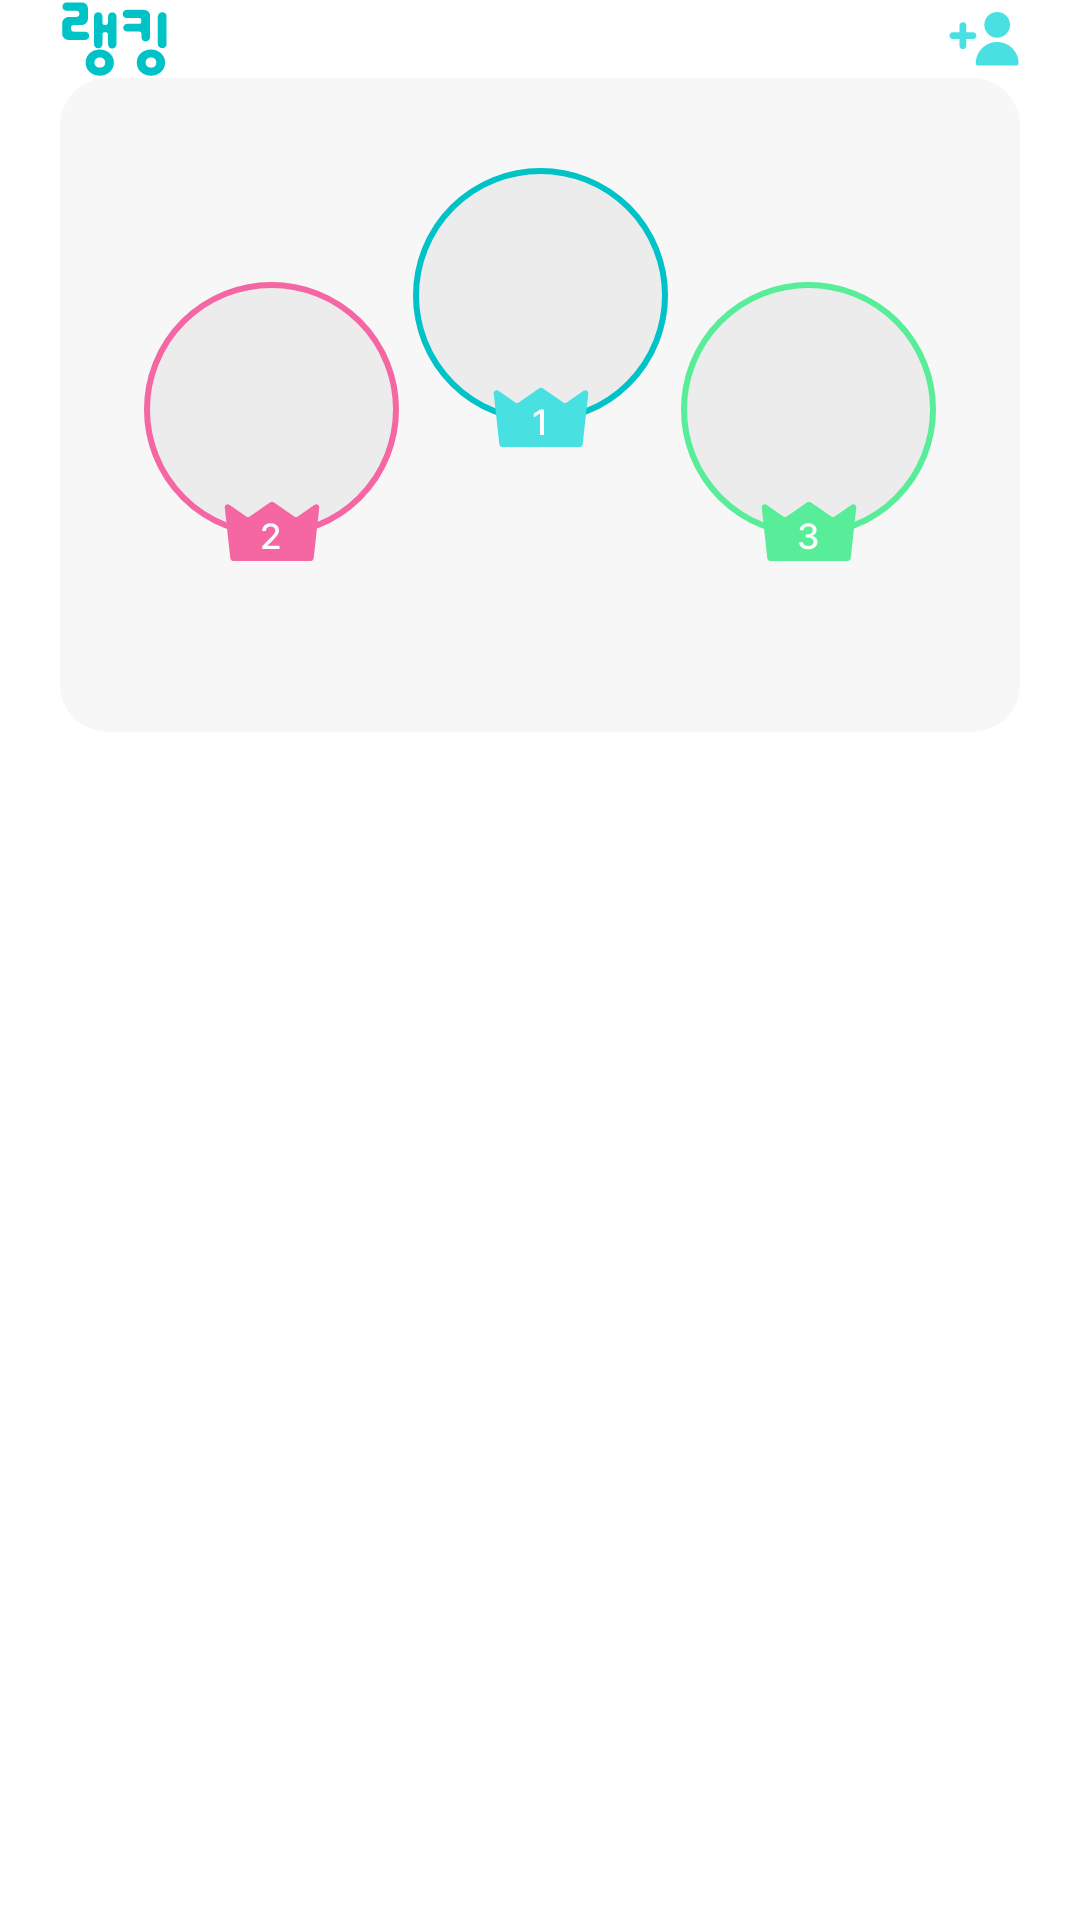

Icon bounding boxes for this 1080x1920 phone screenshot, format (x1, y1, x2, y2):
friends rank 1st: (493, 387, 589, 447)
friends rank 2nd: (224, 501, 320, 561)
friends rank 3rd: (761, 501, 857, 561)
